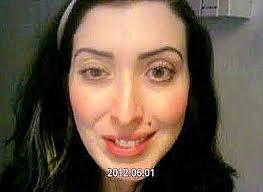strokeEyeSevere: (66, 45, 192, 85)
strokeMouthWeak: (99, 128, 159, 158)
